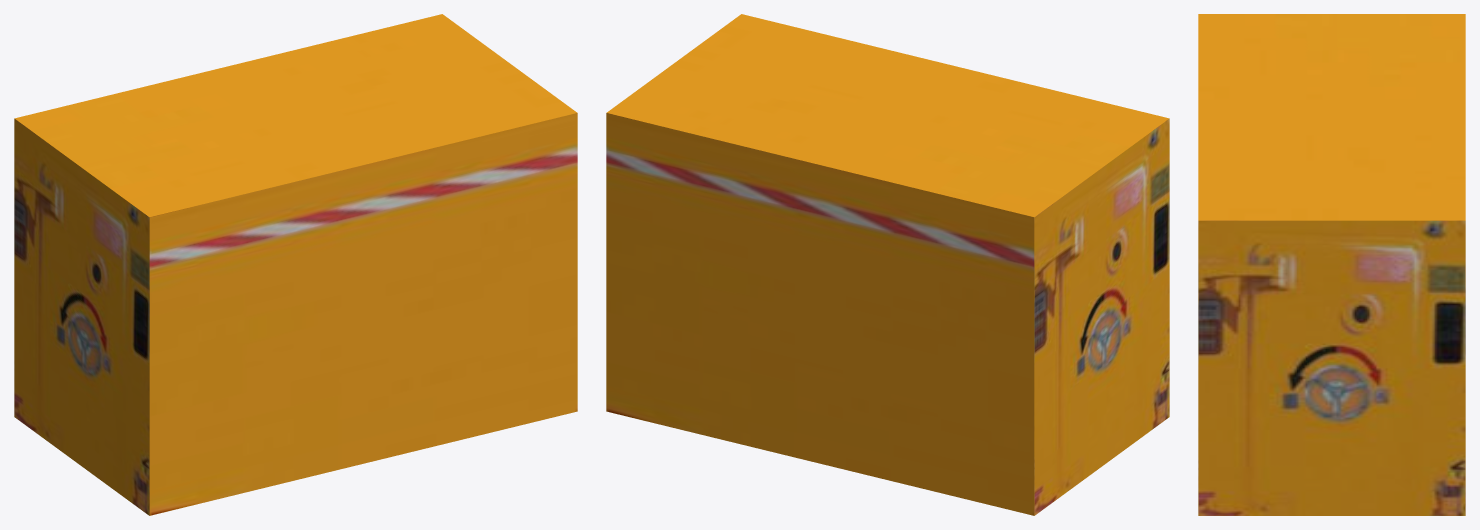
File: bihusuo.gltf
3 renders of one model, left to right at view 1: azimuth 30°, elevation 25°; view 2: azimuth 150°, elevation 25°; view 3: azimuth 270°, elevation 25°, orthographic.
Visible parts, largest first — view 1: Mesh1 Model; view 2: Mesh1 Model; view 3: Mesh1 Model.
Boxes of the visible parts, box(x1,y1,x2,y2) form: Mesh1 Model: box(14, 14, 577, 515); Mesh1 Model: box(606, 14, 1169, 515); Mesh1 Model: box(1198, 14, 1465, 515).
Bounding box in the file's own units: 3 × 2 × 1.64.
3 materials, 3 textured.
